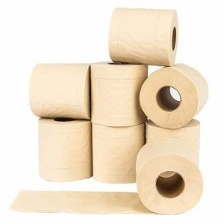tissue: (5, 137, 209, 219), (135, 58, 214, 133), (102, 3, 184, 70), (86, 58, 151, 130), (24, 57, 96, 121), (88, 114, 150, 187), (33, 114, 95, 185), (141, 114, 205, 172)
